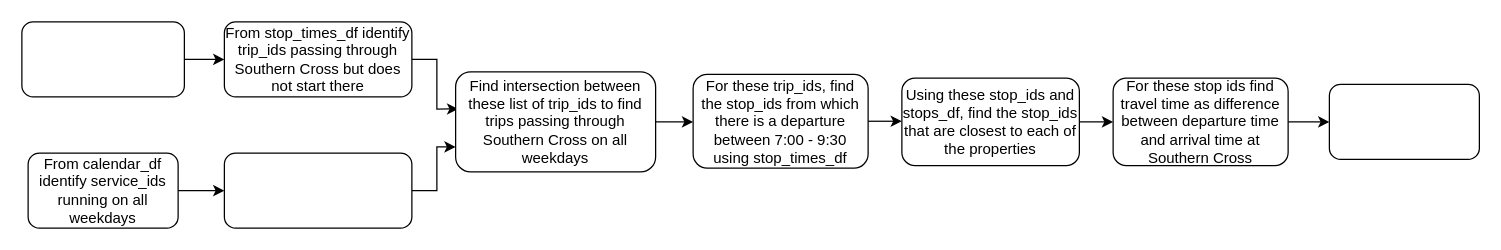
This 1501x250 diagram has some shape labels left out. The shapes that lost their labels are listed below. From the top down, each one's centre as x and y in pixels, then its label:
At (102,59): "From stops_df, identify Southern Cross stop_ids".
At (1403,121): "Find average of travel times for each of these stop_ids".
At (317,190): "From trips_df, identify all trip_ids that are part of these service_ids".
